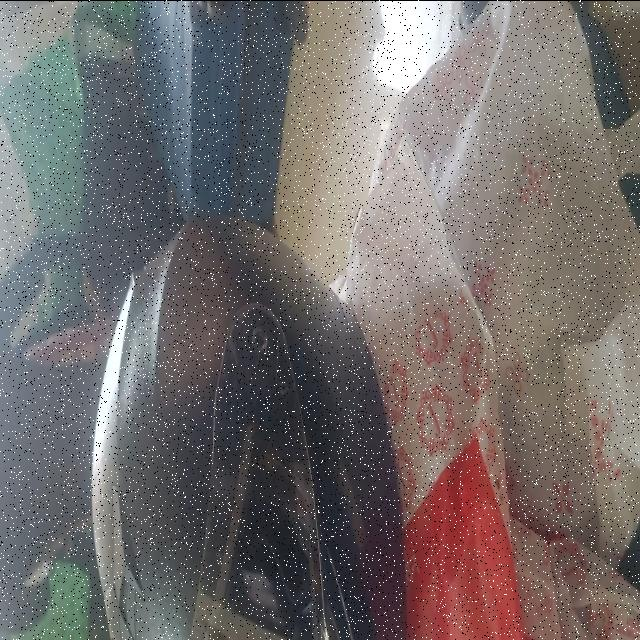Helmet: (92, 218, 405, 640)
